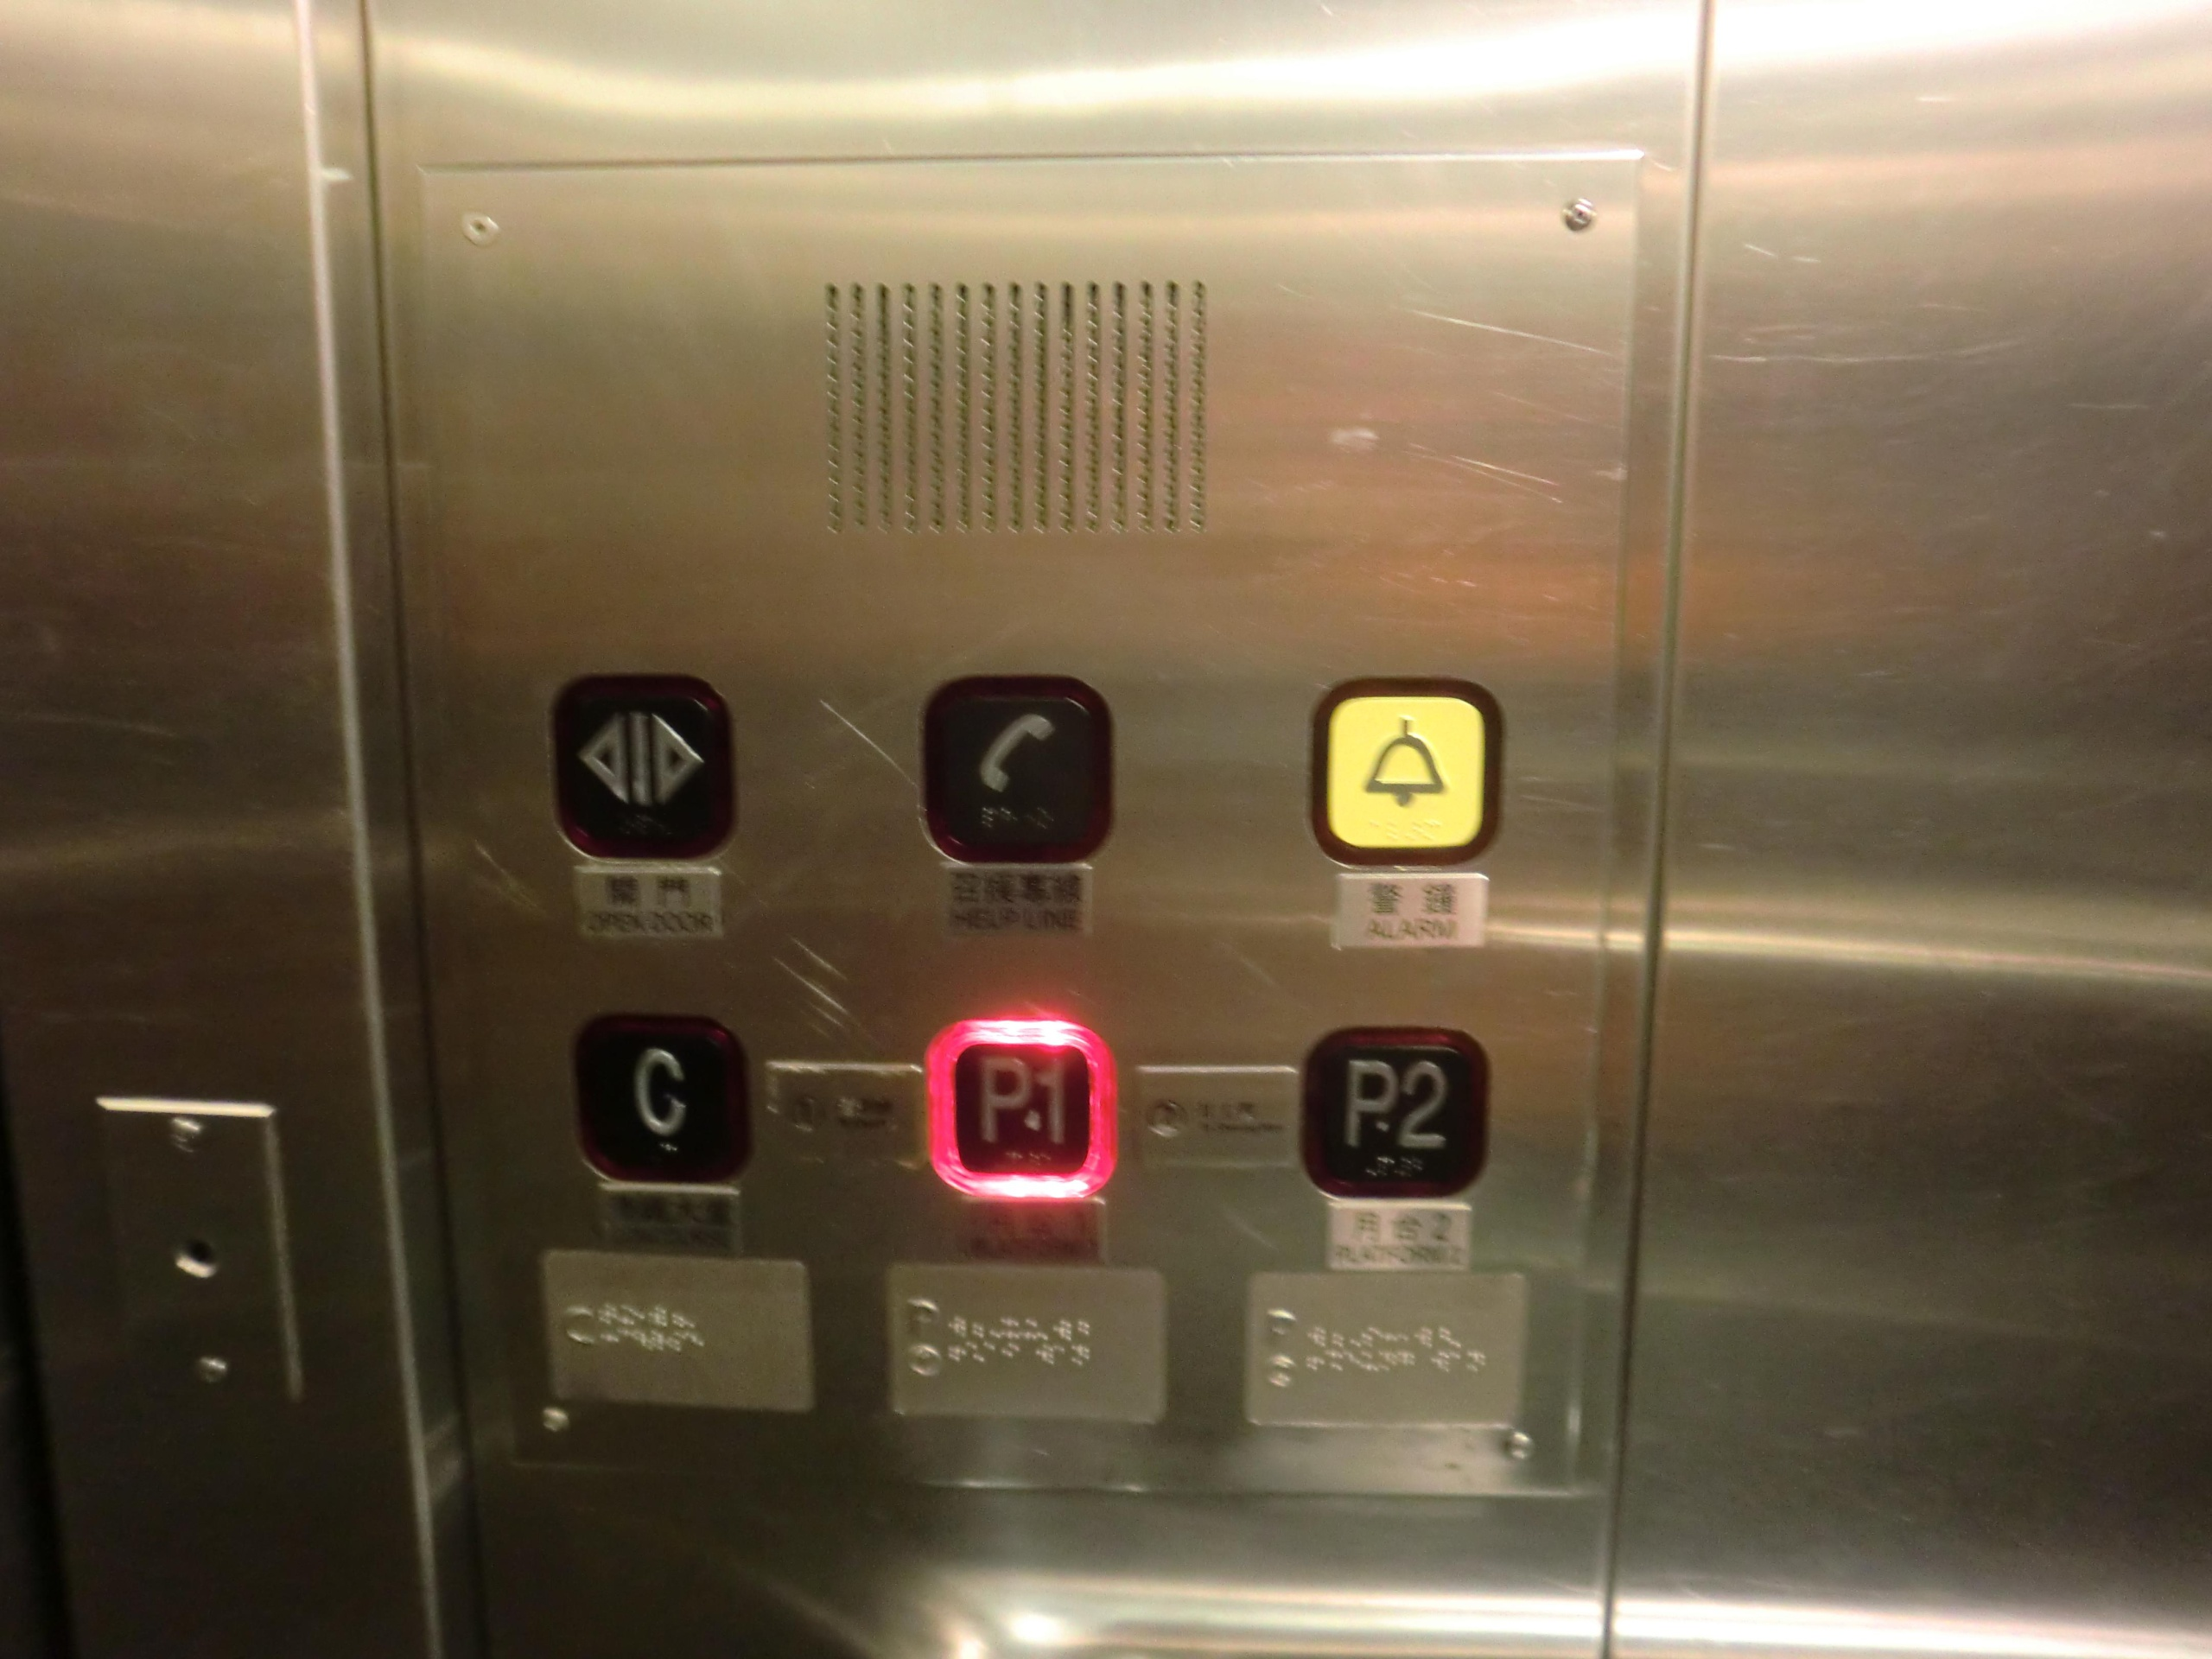C: (570, 1006, 751, 1185)
P1: (918, 1007, 1118, 1209)
P2: (1303, 1023, 1496, 1204)
alarm: (1308, 673, 1503, 868)
call: (916, 678, 1115, 868)
open: (549, 673, 738, 866)
